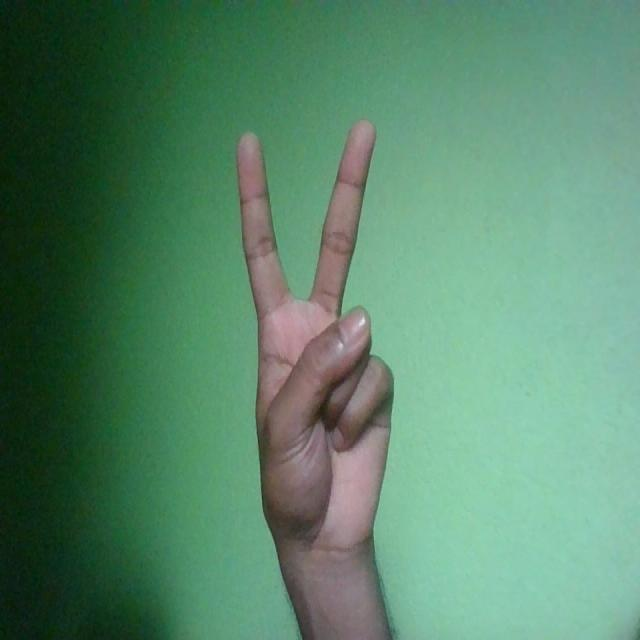Fist: (236, 116, 393, 565)
